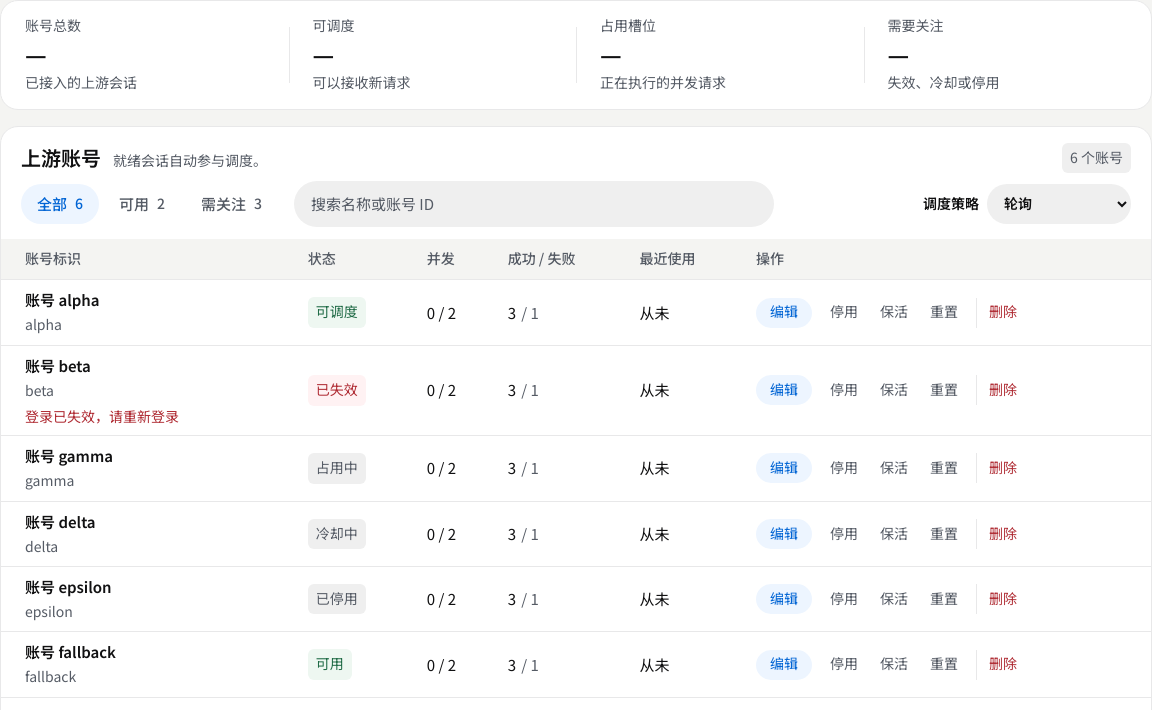
Test case: 账号池 › 搜索/筛选无结果有明确提示并可清除，不误显示首次接入
Type "missing" into the field named "搜索账号".
click(534, 204); type("missing")  # box [294,181,774,227]
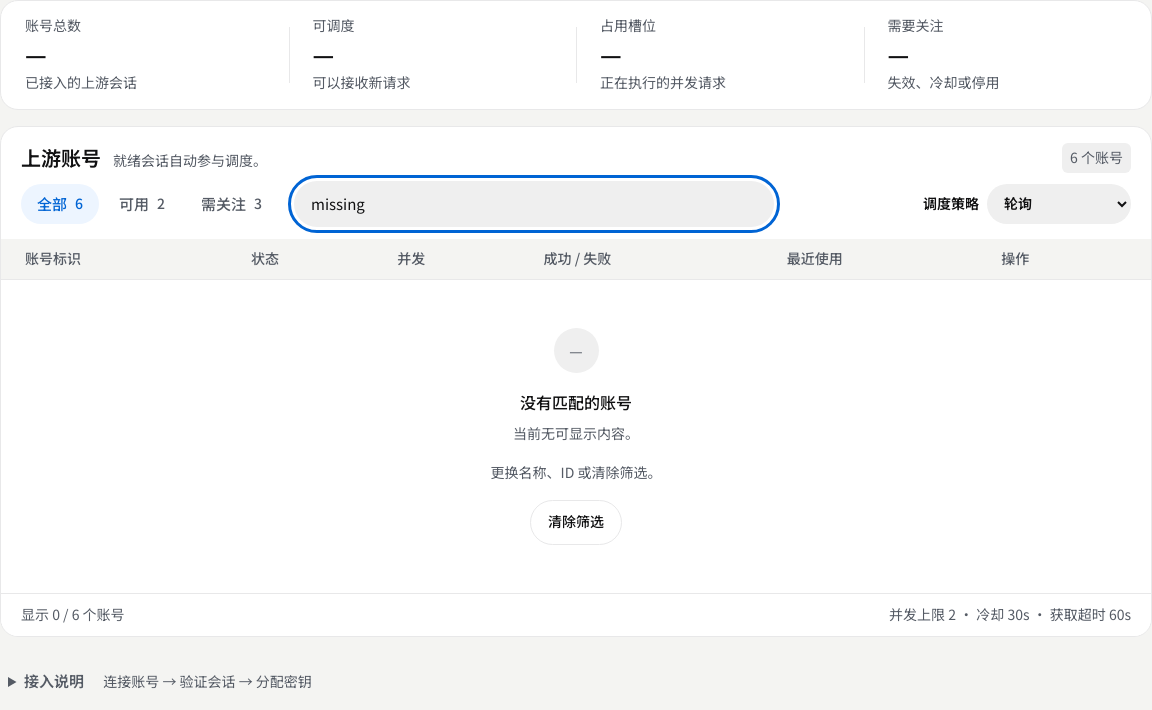
Result: the message shows "没有匹配的账号" at [520,393,632,412]
Click the button "清除筛选".
click(576, 522)  # box [530,500,622,545]
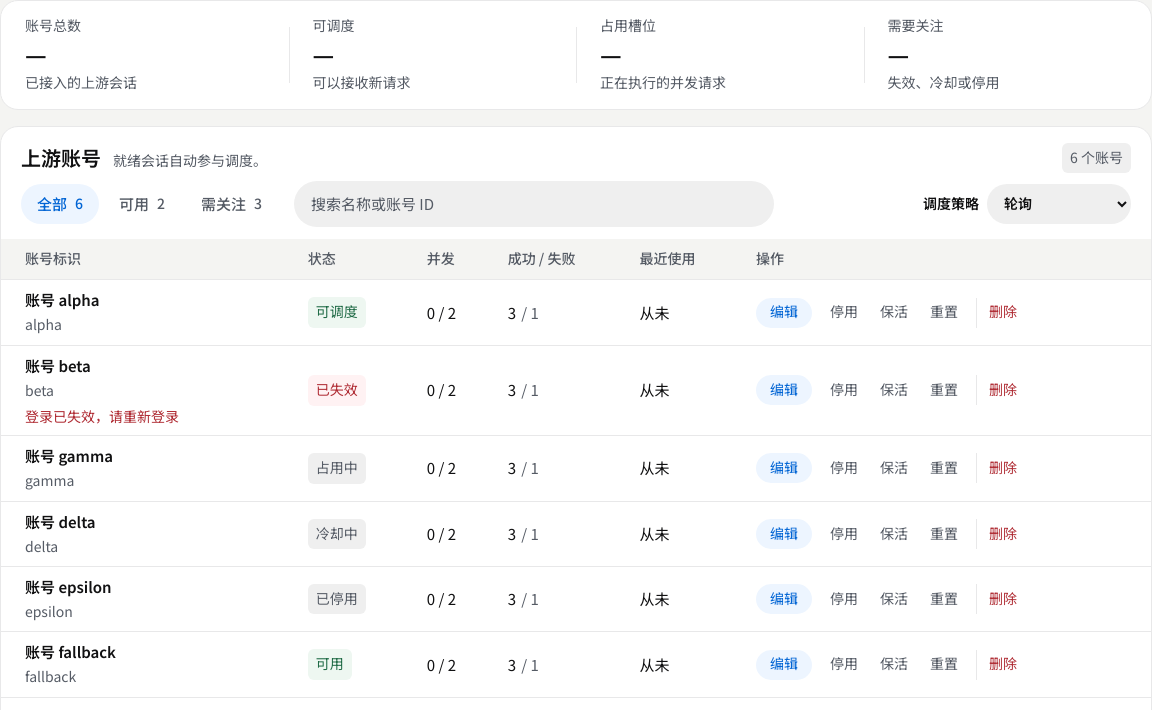
Result: the field named "搜索账号" is empty at [294,181,774,227]
Result: the text "账号 alpha" is shown at [25,288,100,312]
Click the button "需关注 3".
click(232, 204)  # box [185,184,278,224]
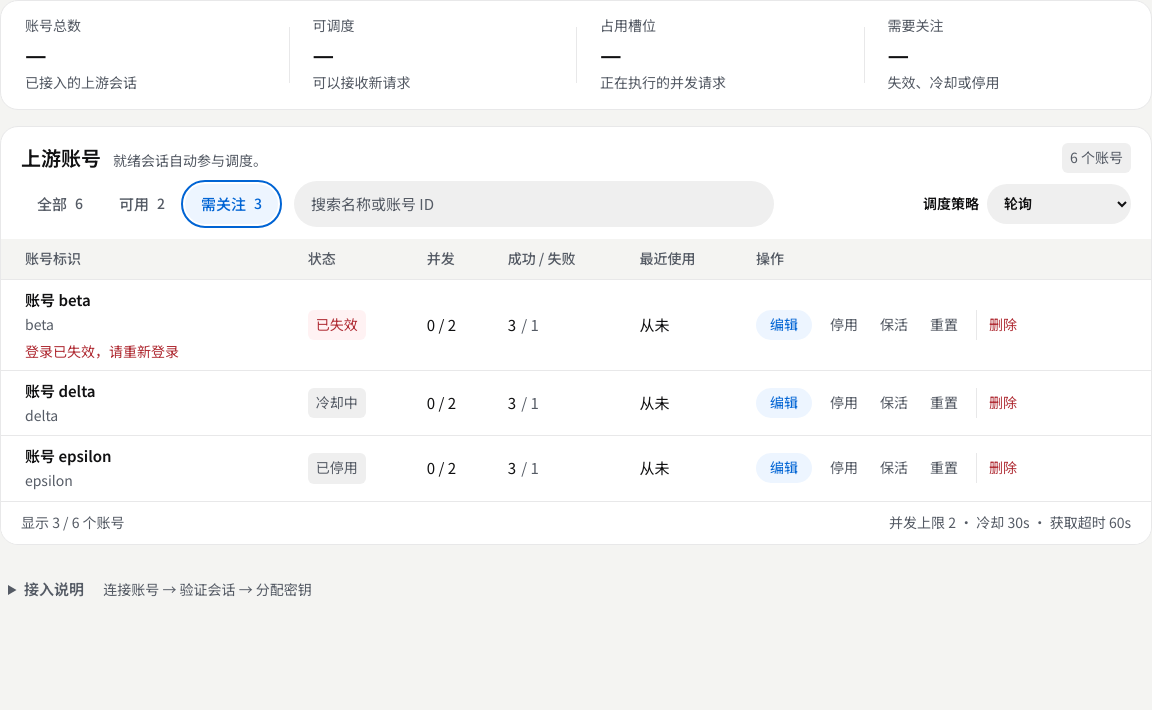
Type "alpha" into the field named "搜索账号".
click(534, 204); type("alpha")  # box [294,181,774,227]
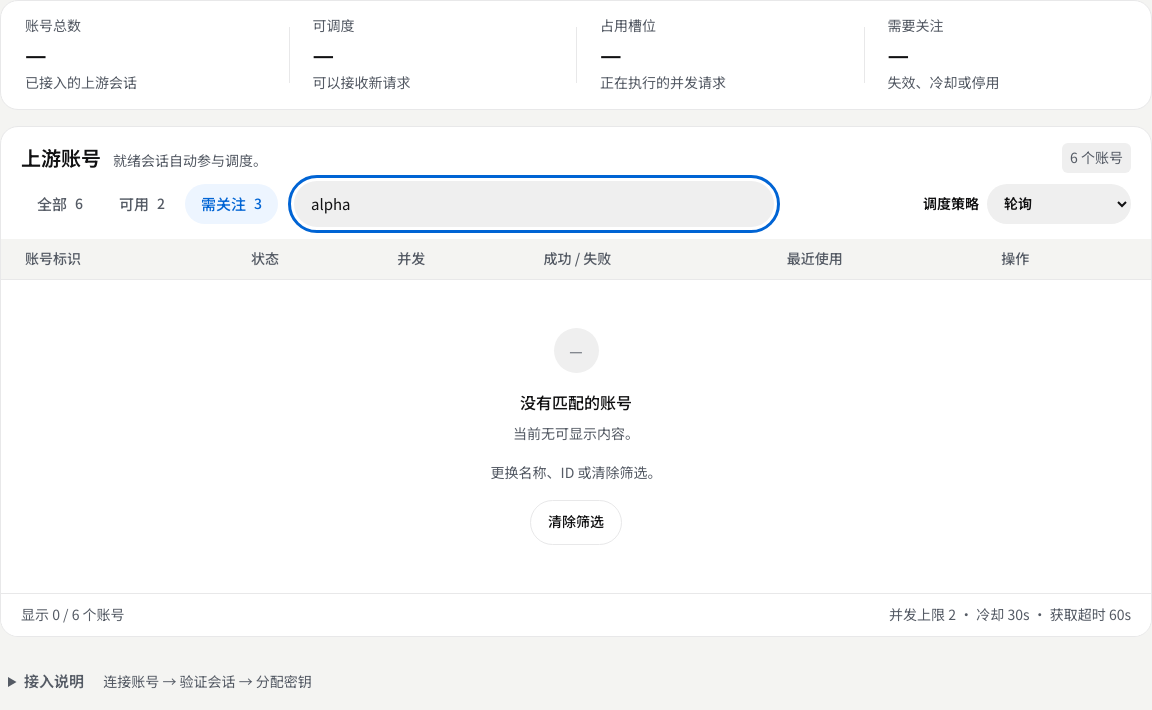
Result: the heading "没有匹配的账号" is shown at [520,393,632,412]
